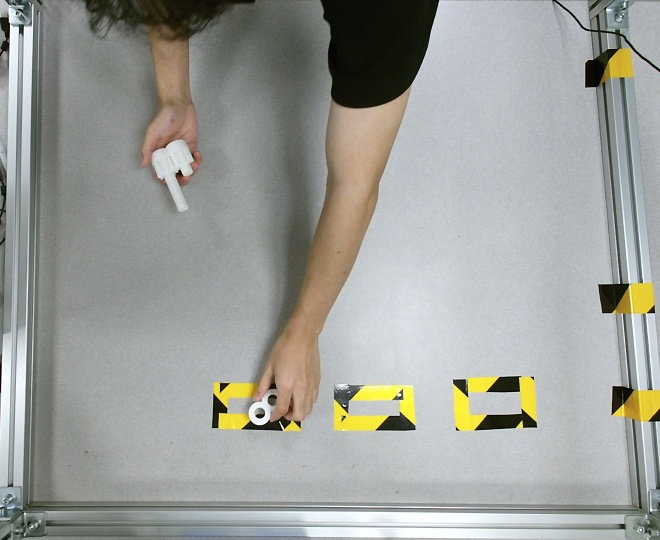stage_3: (152, 140, 192, 211)
